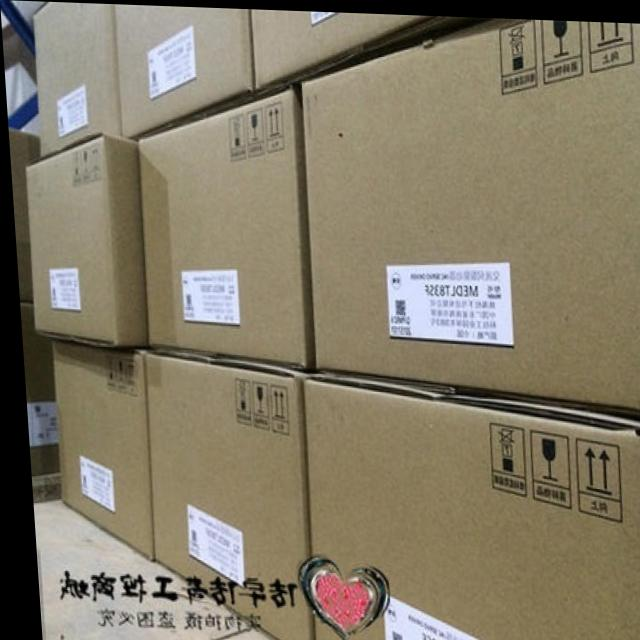box: (299, 15, 640, 410), (300, 368, 640, 640), (135, 80, 311, 368), (140, 346, 308, 640), (21, 132, 141, 345), (47, 340, 146, 562), (111, 3, 254, 135), (252, 7, 456, 93), (31, 1, 120, 155), (16, 299, 53, 474), (7, 129, 39, 301)
